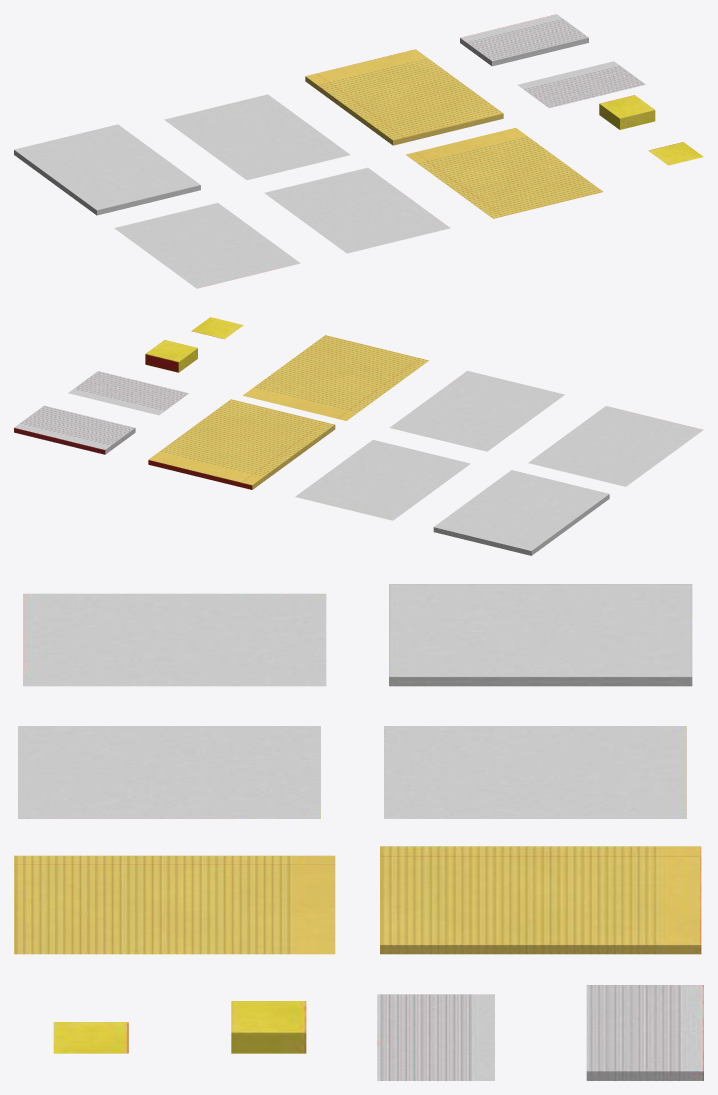
3 renders of one model, top to bottom at view 1: azimuth 30°, elevation 25°; view 2: azimuth 150°, elevation 25°; view 3: azimuth 270°, elevation 25°, orthographic. The views are drawn at different scales.
Parts seen in each view (by area): view 1: office_notepads_yellow_pad, office_notepads_yellow_sheet, office_notepads_a4_stack, office_notepads_a4_a, office_notepads_a4_c, office_notepads_a4_b, office_notepads_note_stack, office_notepads_note_sheet, office_notepads_sticky_stack, office_notepads_sticky_sheet; view 2: office_notepads_yellow_pad, office_notepads_yellow_sheet, office_notepads_a4_stack, office_notepads_a4_b, office_notepads_a4_c, office_notepads_a4_a, office_notepads_note_stack, office_notepads_note_sheet, office_notepads_sticky_stack, office_notepads_sticky_sheet; view 3: office_notepads_yellow_pad, office_notepads_yellow_sheet, office_notepads_a4_stack, office_notepads_a4_a, office_notepads_a4_b, office_notepads_a4_c, office_notepads_note_stack, office_notepads_note_sheet, office_notepads_sticky_stack, office_notepads_sticky_sheet.
Boxes of the visible parts, x1,y1,x2,y2 form: office_notepads_yellow_pad: (305,49,503,145); office_notepads_yellow_sheet: (406,127,603,218); office_notepads_a4_stack: (14,124,200,215); office_notepads_a4_a: (114,203,300,288); office_notepads_a4_c: (264,167,450,253); office_notepads_a4_b: (164,94,350,180); office_notepads_note_stack: (460,14,588,66); office_notepads_note_sheet: (517,61,645,108); office_notepads_sticky_stack: (599,95,655,129); office_notepads_sticky_sheet: (648,142,703,165); office_notepads_yellow_pad: (148,399,335,489); office_notepads_yellow_sheet: (243,335,428,420); office_notepads_a4_stack: (433,470,609,555); office_notepads_a4_b: (295,440,470,520); office_notepads_a4_c: (389,371,564,451); office_notepads_a4_a: (528,406,703,486); office_notepads_note_stack: (14,405,135,454); office_notepads_note_sheet: (68,371,188,415); office_notepads_sticky_stack: (145,340,197,372); office_notepads_sticky_sheet: (191,317,243,339); office_notepads_yellow_pad: (380,846,701,954); office_notepads_yellow_sheet: (14,855,335,954); office_notepads_a4_stack: (389,584,692,686); office_notepads_a4_a: (23,593,326,686); office_notepads_a4_b: (384,726,686,818); office_notepads_a4_c: (18,726,320,818); office_notepads_note_stack: (586,985,703,1080); office_notepads_note_sheet: (377,994,494,1080); office_notepads_sticky_stack: (231,1001,306,1053); office_notepads_sticky_sheet: (53,1022,128,1053).
Size of the model in its own units: 1.1 by 0.022 by 0.6598.
Materials: 1 (1 with a texture image).
